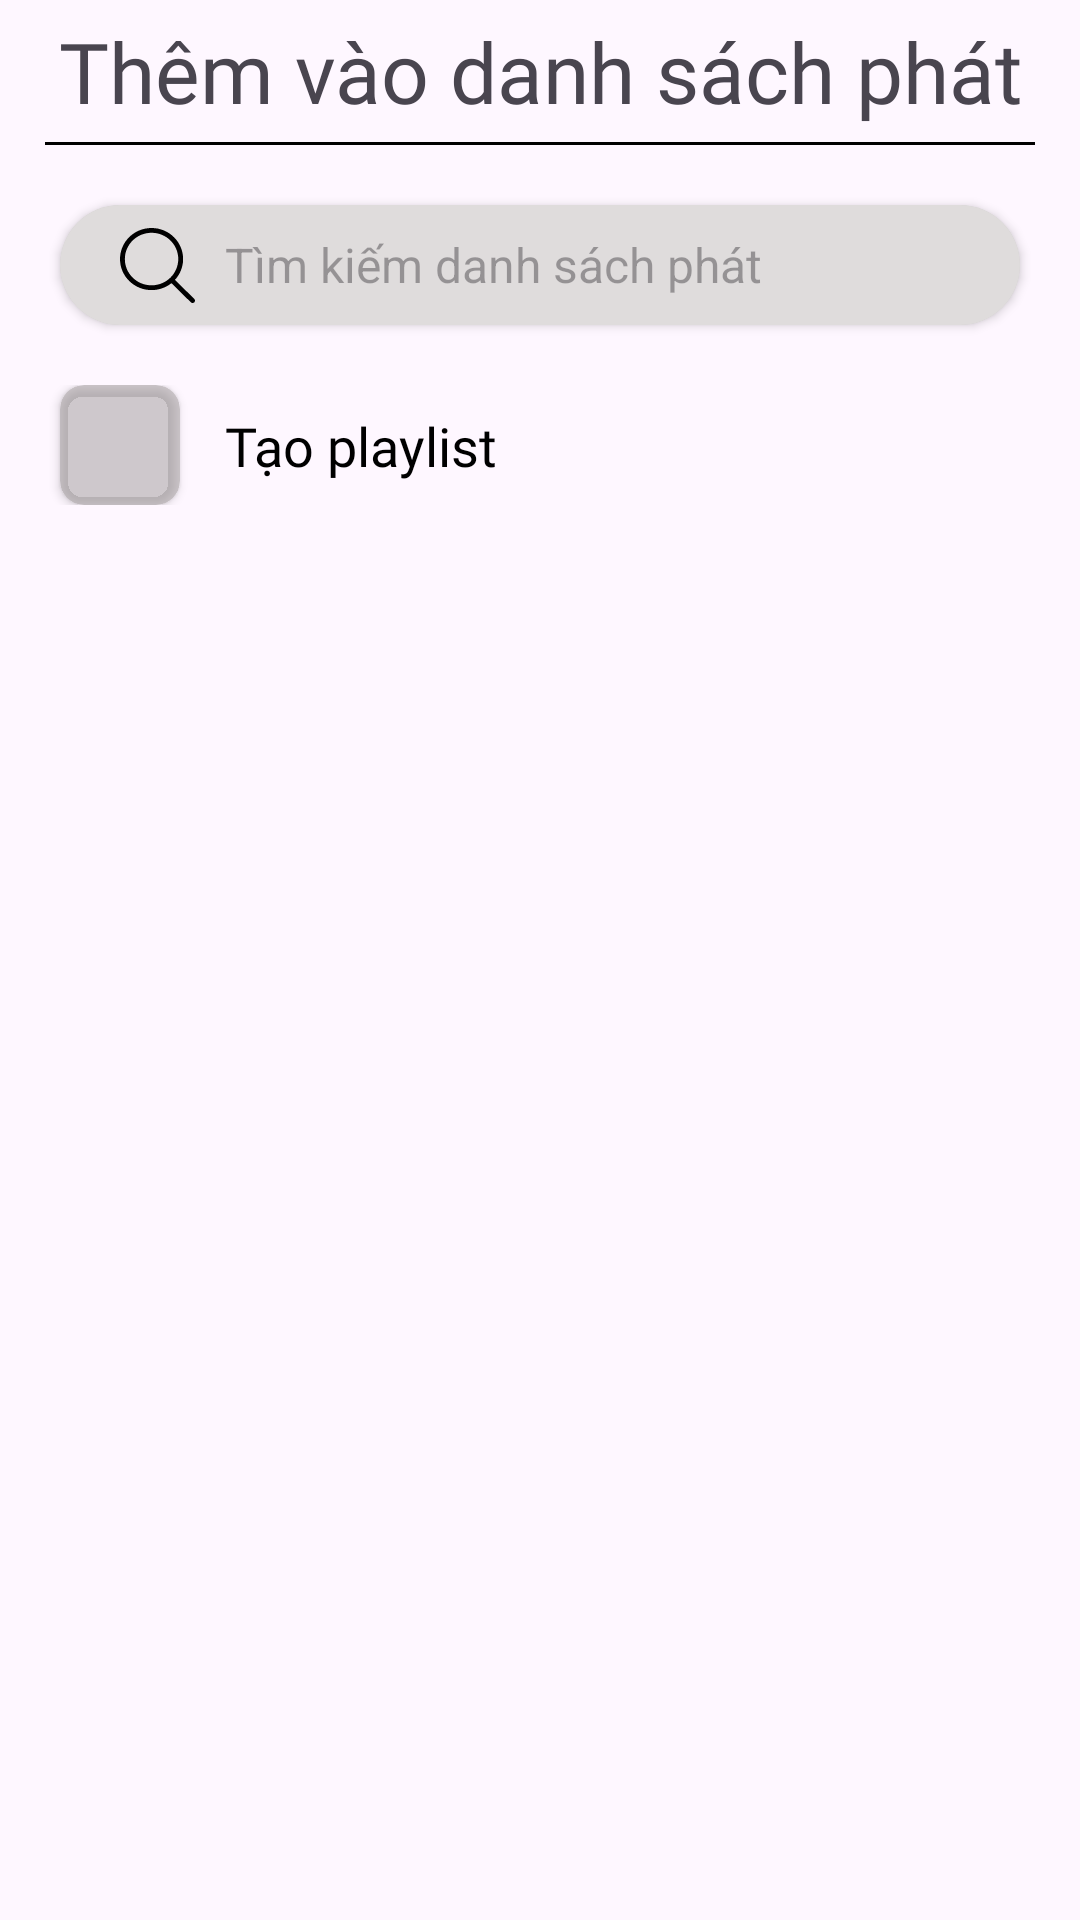

Locate icon controls on the screen. Image size 1080w x 1920h, boxes as bbox(x1, y1, x2, y2).
search: bbox(120, 228, 195, 303)
